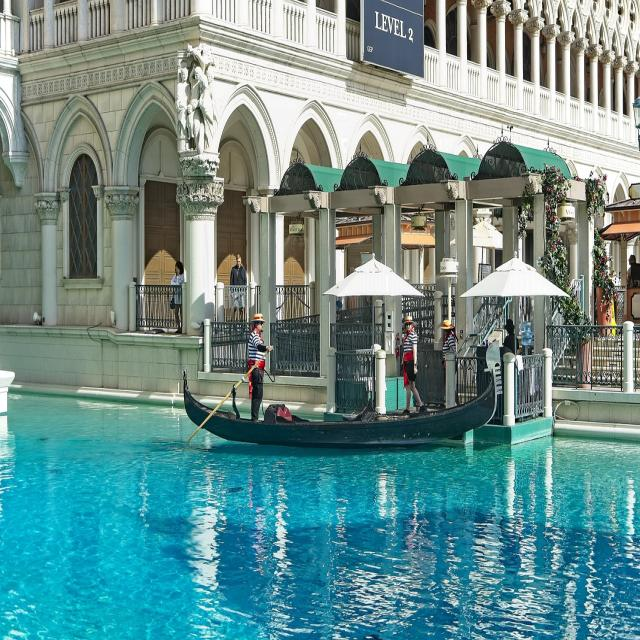boat: (172, 353, 506, 459)
